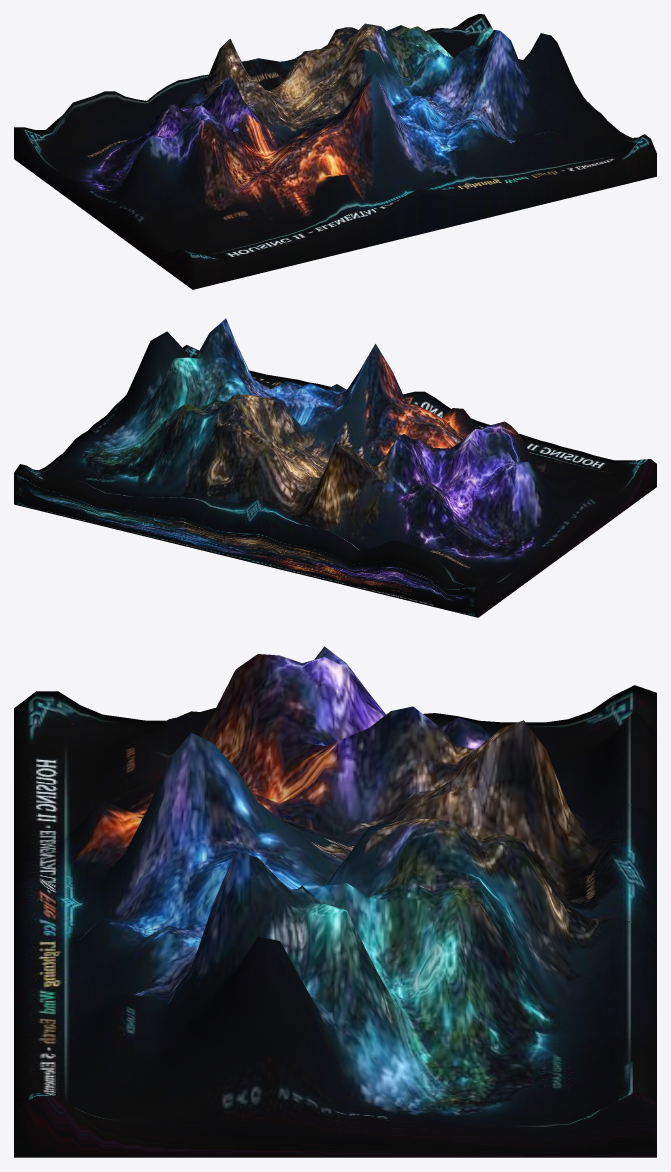
File: HOUSING_11_Elemental_Land.glb
The picture shows the model from 3 angles, top to bottom: view 1: azimuth 30°, elevation 25°; view 2: azimuth 150°, elevation 25°; view 3: azimuth 270°, elevation 25°; orthographic projection. The views are drawn at different scales.
Visible parts, largest first — view 1: HOUSING_11_Elemental_Land; view 2: HOUSING_11_Elemental_Land; view 3: HOUSING_11_Elemental_Land.
Part boxes in pixels (x1,y1,x2,y2): HOUSING_11_Elemental_Land: (14, 14, 656, 289); HOUSING_11_Elemental_Land: (14, 318, 656, 617); HOUSING_11_Elemental_Land: (14, 646, 656, 1157).
Size of the model in its own units: 2 by 0.51 by 1.33.
Materials: 1 (1 with a texture image).
